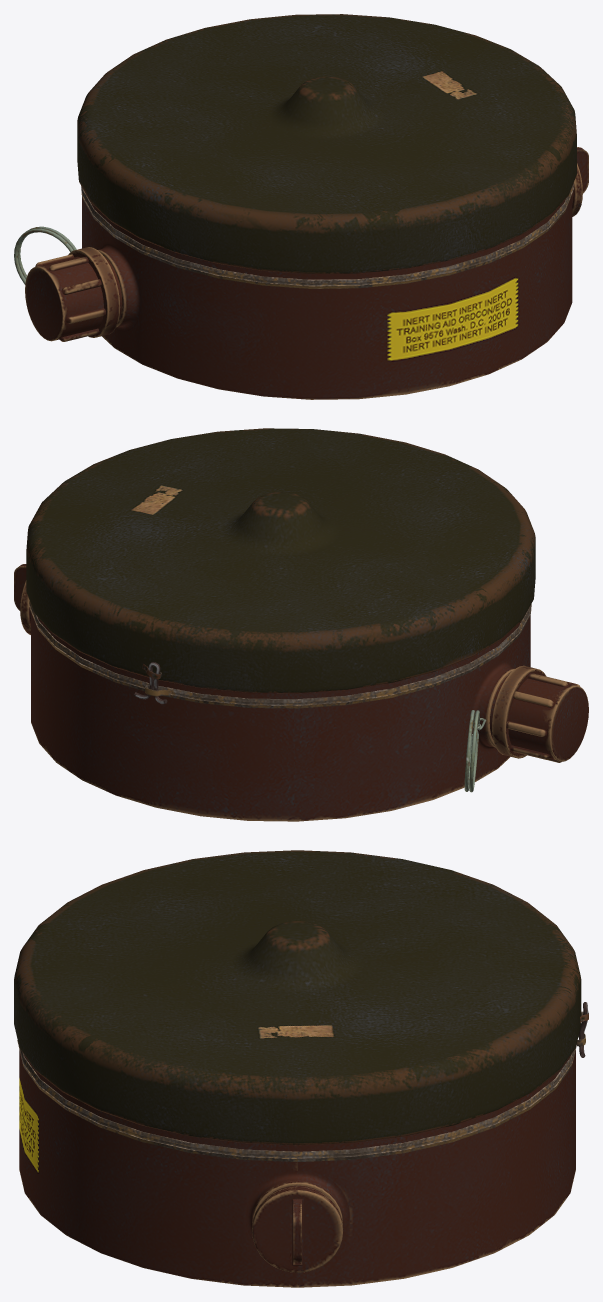
The model's file is Mine.fbx.
3 views of the same model, one above another, from view 1: azimuth 30°, elevation 25°; view 2: azimuth 150°, elevation 25°; view 3: azimuth 270°, elevation 25° (orthographic). The views are drawn at different scales.
Parts seen in each view (by area): view 1: Anti-Personnel Blast Mine; view 2: Anti-Personnel Blast Mine; view 3: Anti-Personnel Blast Mine.
Part boxes in pixels (<box>): Anti-Personnel Blast Mine: <box>14,14,588,399</box>; Anti-Personnel Blast Mine: <box>14,428,588,821</box>; Anti-Personnel Blast Mine: <box>14,850,588,1287</box>.
Bounding box in the file's own units: 30.07 × 11.15 × 24.33.
